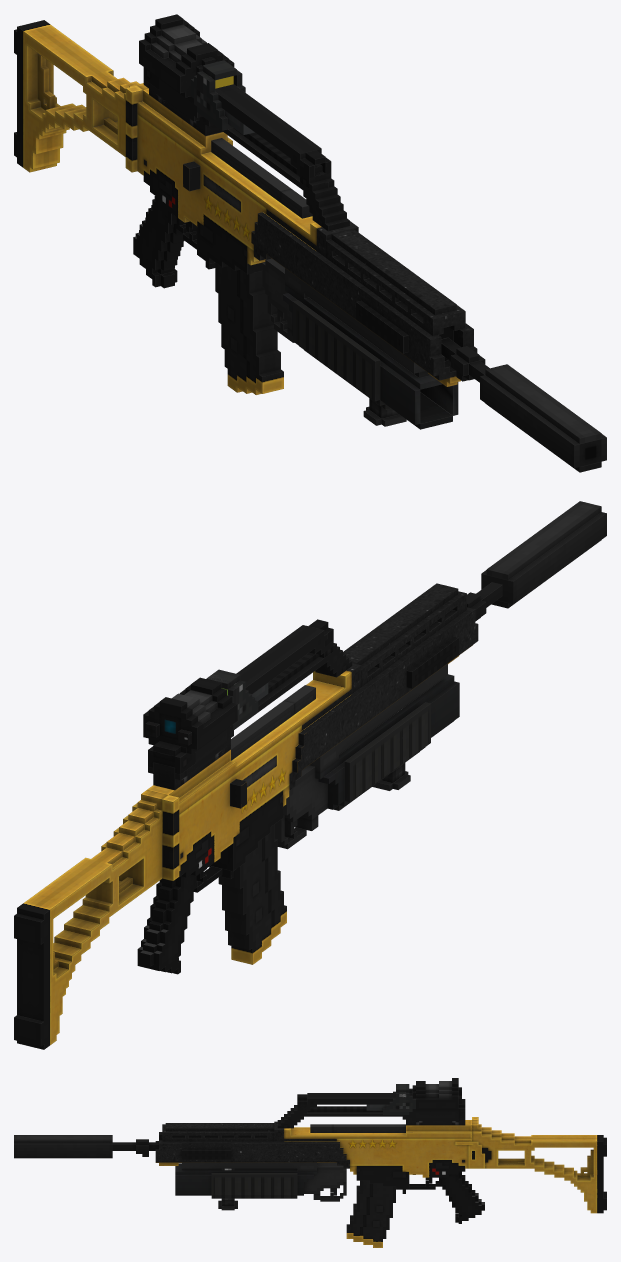
Rendered from RD_G36_VETERAN.glb.
3 renders of one model, top to bottom at view 1: azimuth 30°, elevation 25°; view 2: azimuth 150°, elevation 25°; view 3: azimuth 270°, elevation 25°, orthographic. The views are drawn at different scales.
Parts seen in each view (by area): view 1: G36, GP_M203, G36_SCOPE2, G36_CLIP, SILENCER_6X6, G36_PLANK_AIMPOINT, SCOPE_EOTECH, G36_BOLT, G36_SCOPE1, G36_PLANK_DEFAULT, GRIP1; view 2: G36, GP_M203, G36_SCOPE2, SILENCER_6X6, G36_CLIP, G36_PLANK_AIMPOINT, G36_BOLT, G36_PLANK_DEFAULT, SCOPE_EOTECH, G36_SCOPE1; view 3: G36, GP_M203, G36_SCOPE2, G36_CLIP, SILENCER_6X6, G36_PLANK_EOTECH, G36_BOLT, SCOPE_EOTECH, G36_PLANK_AIMPOINT, GRIP1.
Boxes of the visible parts, left/top/right/bottom form: G36: left=14, top=20, right=489, bottom=386; GP_M203: left=262, top=258, right=458, bottom=429; G36_SCOPE2: left=139, top=14, right=349, bottom=231; G36_CLIP: left=215, top=263, right=283, bottom=394; SILENCER_6X6: left=480, top=364, right=606, bottom=472; G36_PLANK_AIMPOINT: left=149, top=89, right=349, bottom=231; SCOPE_EOTECH: left=191, top=60, right=254, bottom=135; G36_BOLT: left=211, top=138, right=312, bottom=218; G36_SCOPE1: left=143, top=67, right=331, bottom=188; G36_PLANK_DEFAULT: left=149, top=89, right=324, bottom=221; GRIP1: left=363, top=349, right=406, bottom=426; G36: left=14, top=582, right=502, bottom=1049; GP_M203: left=274, top=664, right=459, bottom=849; G36_SCOPE2: left=143, top=625, right=340, bottom=783; SILENCER_6X6: left=481, top=501, right=606, bottom=608; G36_CLIP: left=218, top=824, right=286, bottom=964; G36_PLANK_AIMPOINT: left=156, top=647, right=352, bottom=789; G36_BOLT: left=231, top=685, right=315, bottom=760; G36_PLANK_DEFAULT: left=153, top=654, right=336, bottom=790; SCOPE_EOTECH: left=207, top=669, right=268, bottom=729; G36_SCOPE1: left=148, top=619, right=333, bottom=774; G36: left=112, top=1117, right=606, bottom=1223; GP_M203: left=175, top=1162, right=346, bottom=1201; G36_SCOPE2: left=277, top=1078, right=465, bottom=1128; G36_CLIP: left=346, top=1180, right=395, bottom=1247; SILENCER_6X6: left=14, top=1135, right=112, bottom=1158; G36_PLANK_EOTECH: left=281, top=1109, right=465, bottom=1128; G36_BOLT: left=310, top=1124, right=405, bottom=1132; SCOPE_EOTECH: left=366, top=1084, right=415, bottom=1114; G36_PLANK_AIMPOINT: left=277, top=1106, right=382, bottom=1125; GRIP1: left=218, top=1168, right=237, bottom=1210.
Bounding box in the file's own units: 0.0984 × 0.5413 × 1.77.
Materials: 8 (8 with a texture image).
